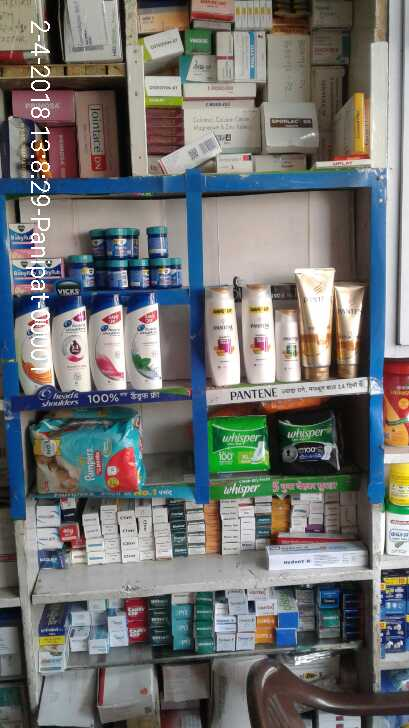vicks: (9, 219, 184, 287)
